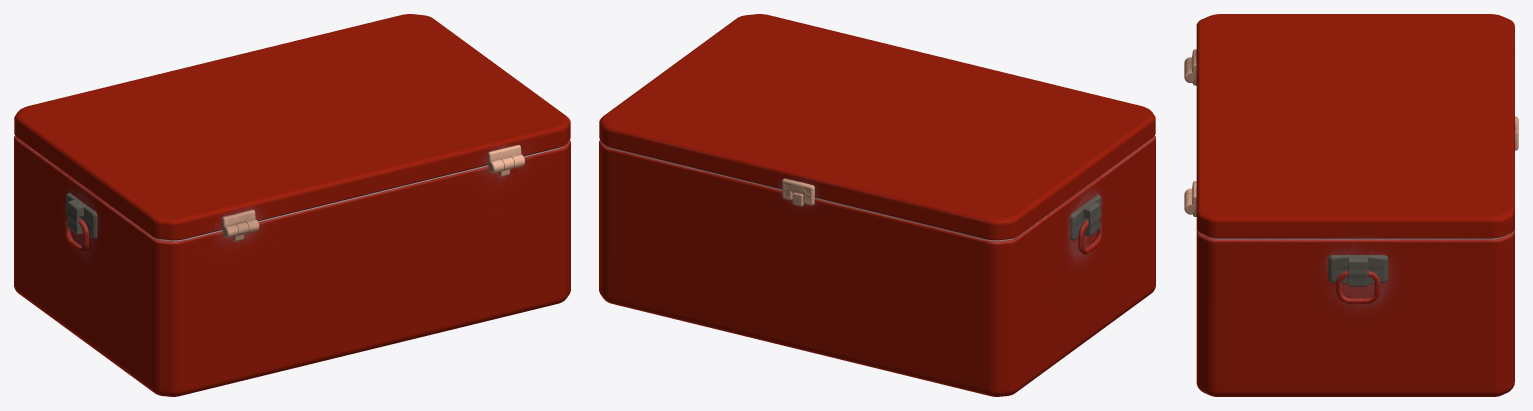
Rendered from cargo b.fbx.
3 views of the same model, side by side, from view 1: azimuth 30°, elevation 25°; view 2: azimuth 150°, elevation 25°; view 3: azimuth 270°, elevation 25° (orthographic).
Parts seen in each view (by area): view 1: crate's; view 2: crate's; view 3: crate's.
Part boxes in pixels (<box>): crate's: <box>14,14,570,396</box>; crate's: <box>599,14,1155,396</box>; crate's: <box>1184,14,1518,396</box>.
Size of the model in its own units: 165 by 64.36 by 107.
